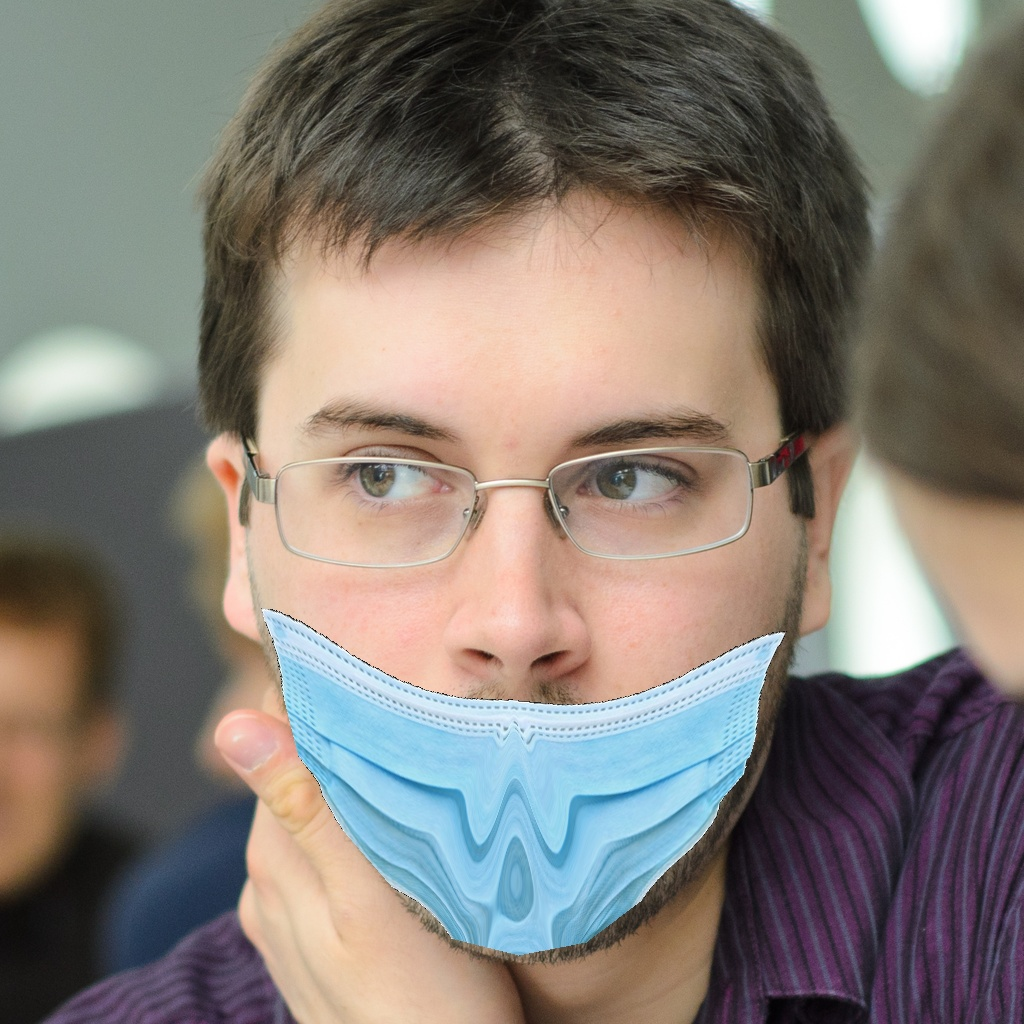mask_weared_incorrect: (257, 398, 797, 963)
